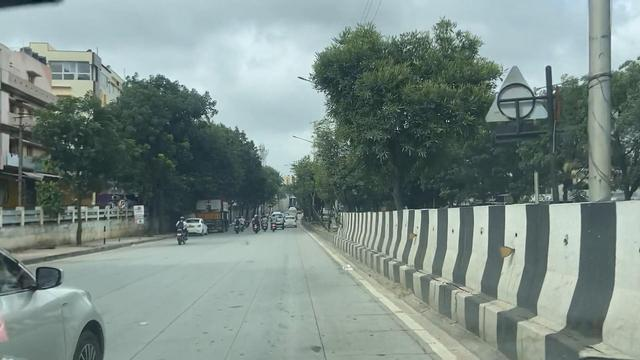LMV: (3, 257, 108, 360)
